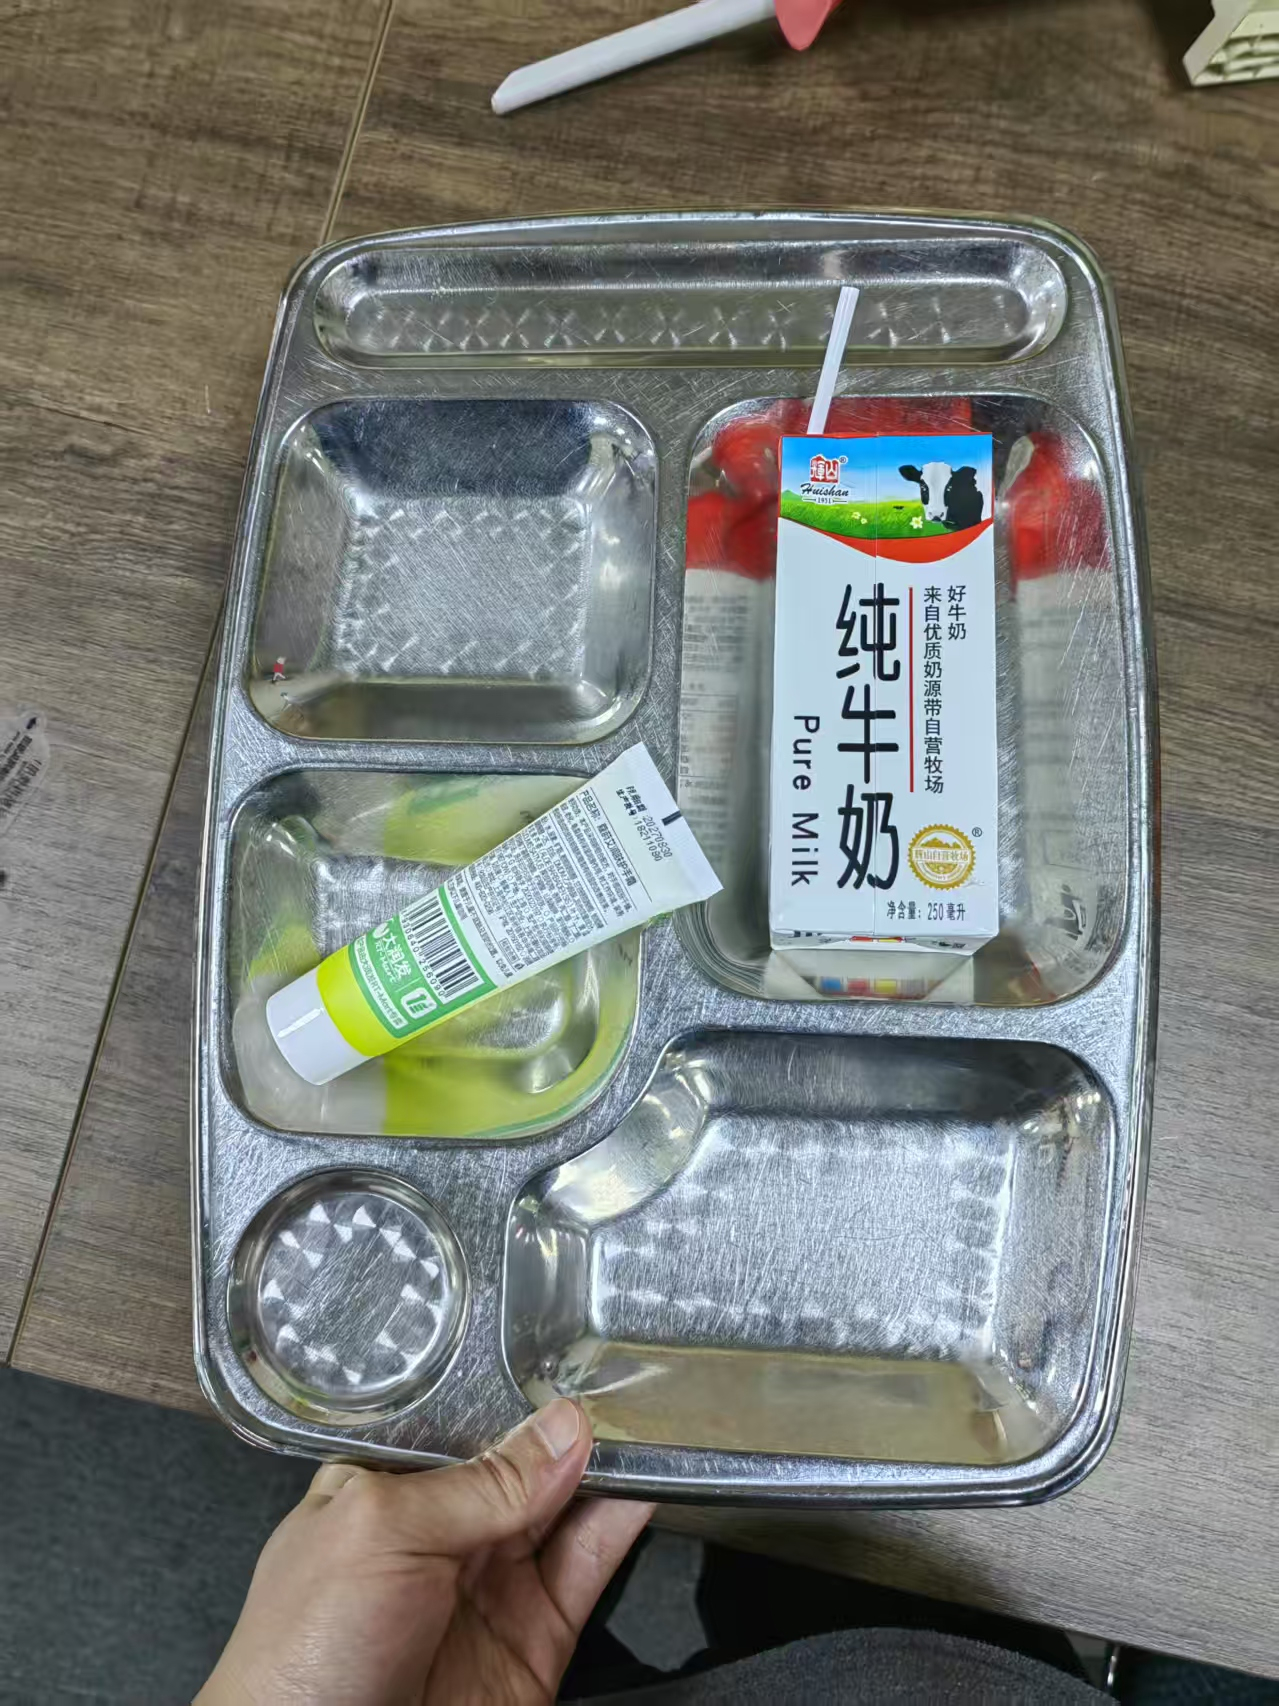moderate: (262, 285, 1000, 1090)
plate: (187, 203, 1162, 1511)
